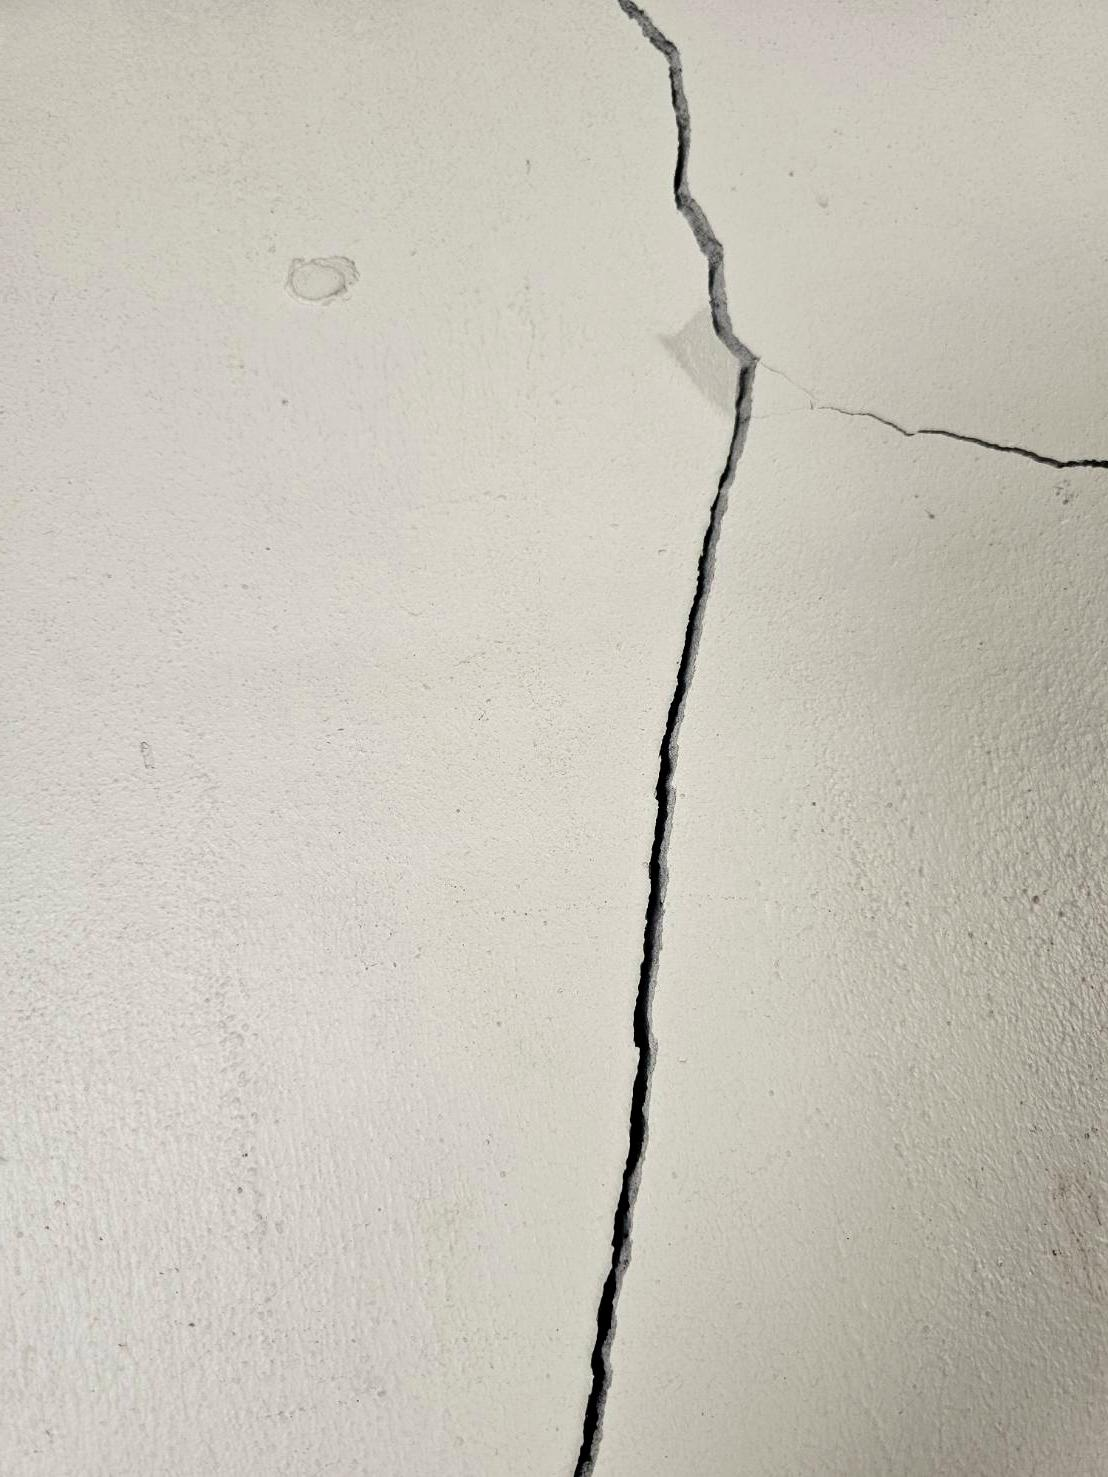High: (483, 1, 1108, 1477)
